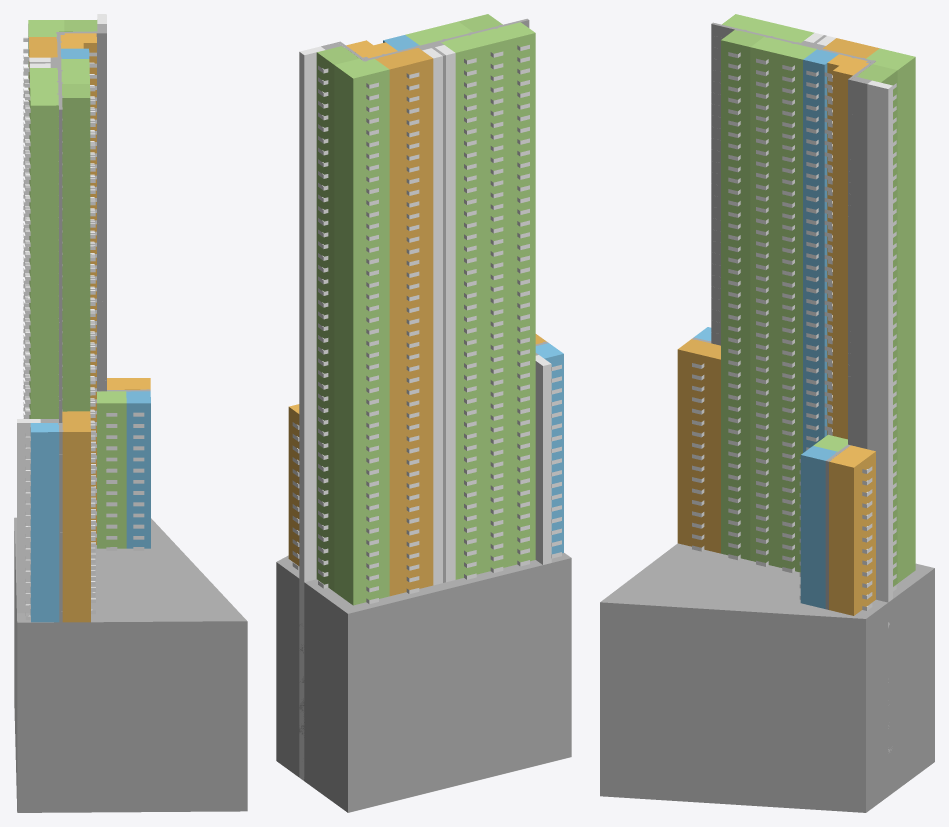
File: option2.gltf
The picture shows the model from 3 angles, left to right: view 1: azimuth 30°, elevation 25°; view 2: azimuth 150°, elevation 25°; view 3: azimuth 270°, elevation 25°; orthographic projection. The views are drawn at different scales.
Bounding box in the file's own units: 68.02 × 217 × 93.09.
